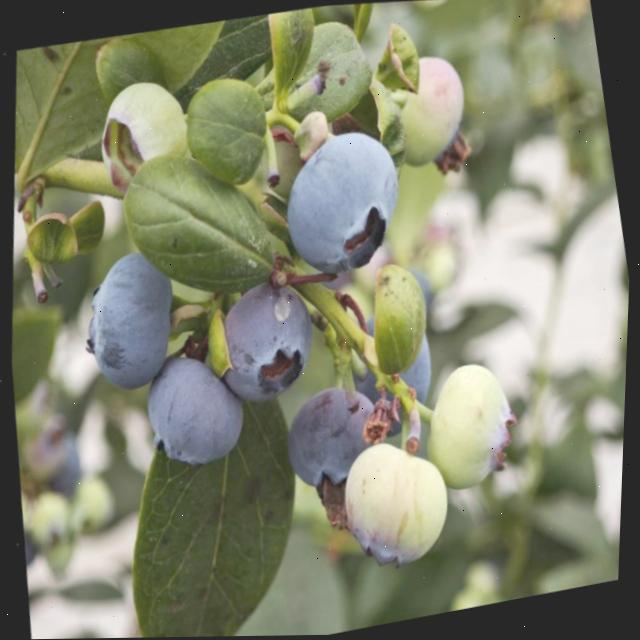RipeBlueBerry: (255, 109, 416, 286), (126, 343, 261, 482), (60, 243, 185, 392), (199, 272, 324, 416)
Semi-RipeBlueBerry: (323, 419, 470, 580), (405, 347, 537, 502)
